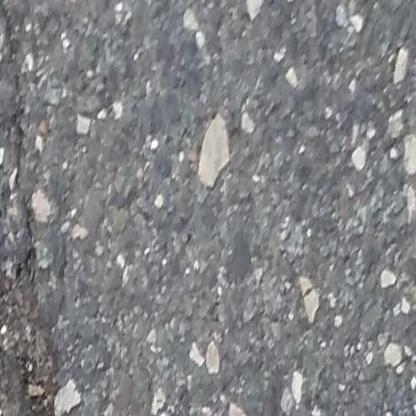Cracks: (0, 0, 129, 416), (407, 390, 416, 416)
